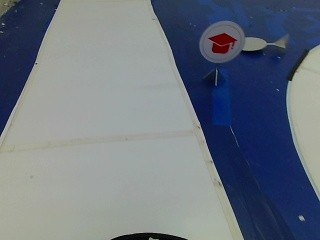school: (198, 18, 245, 67)
